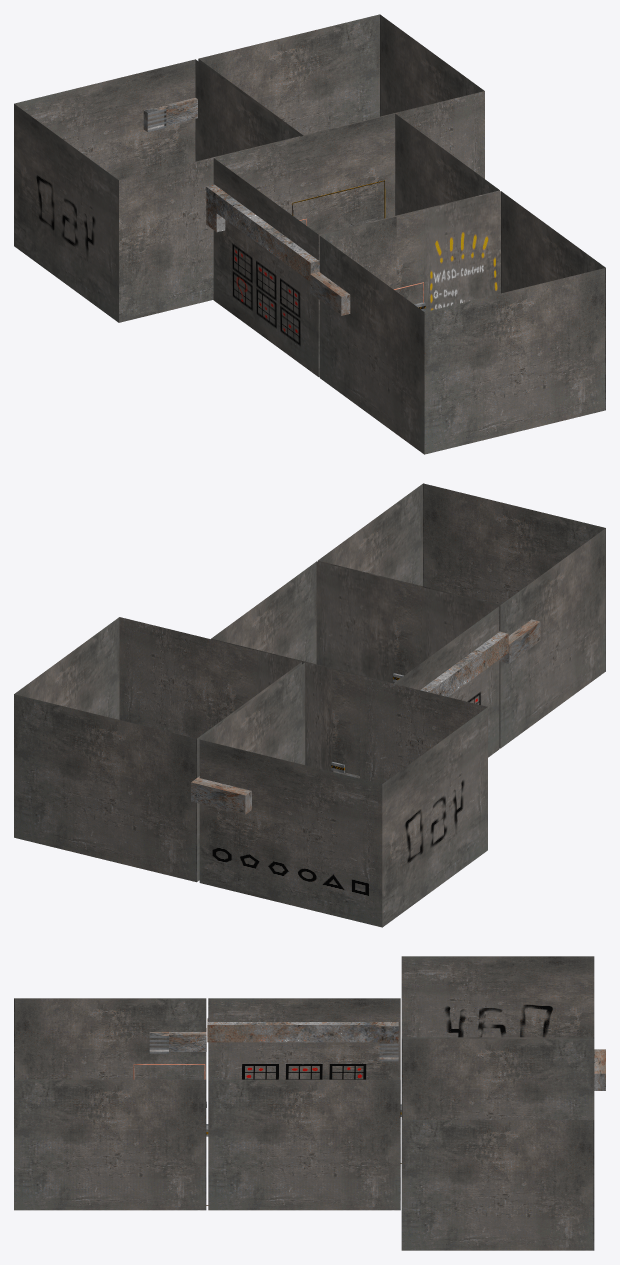
3 renders of one model, top to bottom at view 1: azimuth 30°, elevation 25°; view 2: azimuth 150°, elevation 25°; view 3: azimuth 270°, elevation 25°, orthographic. The views are drawn at different scales.
Parts seen in each view (by area): view 1: Room1, Room1.001, Room2, Room1.002, Cube.001, Cube.002, Cube; view 2: Room1.001, Room1.002, Room1, Room2, Cube.001, Cube.002, Cube; view 3: Room1.002, Room1, Room2, Room1.001, Cube.001, Cube, Cube.002.
Boxes of the visible parts, x1,y1,x2,y2 form: Room1: [319, 191, 605, 454]; Room1.001: [14, 59, 300, 322]; Room2: [213, 113, 499, 376]; Room1.002: [198, 14, 484, 226]; Cube.001: [206, 184, 319, 281]; Cube.002: [143, 97, 197, 131]; Cube: [310, 272, 350, 315]; Room1.001: [199, 662, 487, 927]; Room1.002: [14, 617, 302, 882]; Room1: [317, 483, 605, 748]; Room2: [211, 561, 499, 778]; Cube.001: [420, 631, 508, 696]; Cube.002: [191, 776, 251, 814]; Cube: [499, 619, 540, 663]; Room1.002: [401, 1038, 594, 1250]; Room1: [14, 998, 206, 1210]; Room2: [208, 998, 400, 1210]; Room1.001: [401, 956, 594, 1038]; Cube.001: [207, 1018, 398, 1061]; Cube: [149, 1028, 206, 1053]; Cube.002: [594, 1049, 605, 1090].
Bounding box in the file's own units: 4031 × 1506 × 6154.
2 materials, 2 textured.
